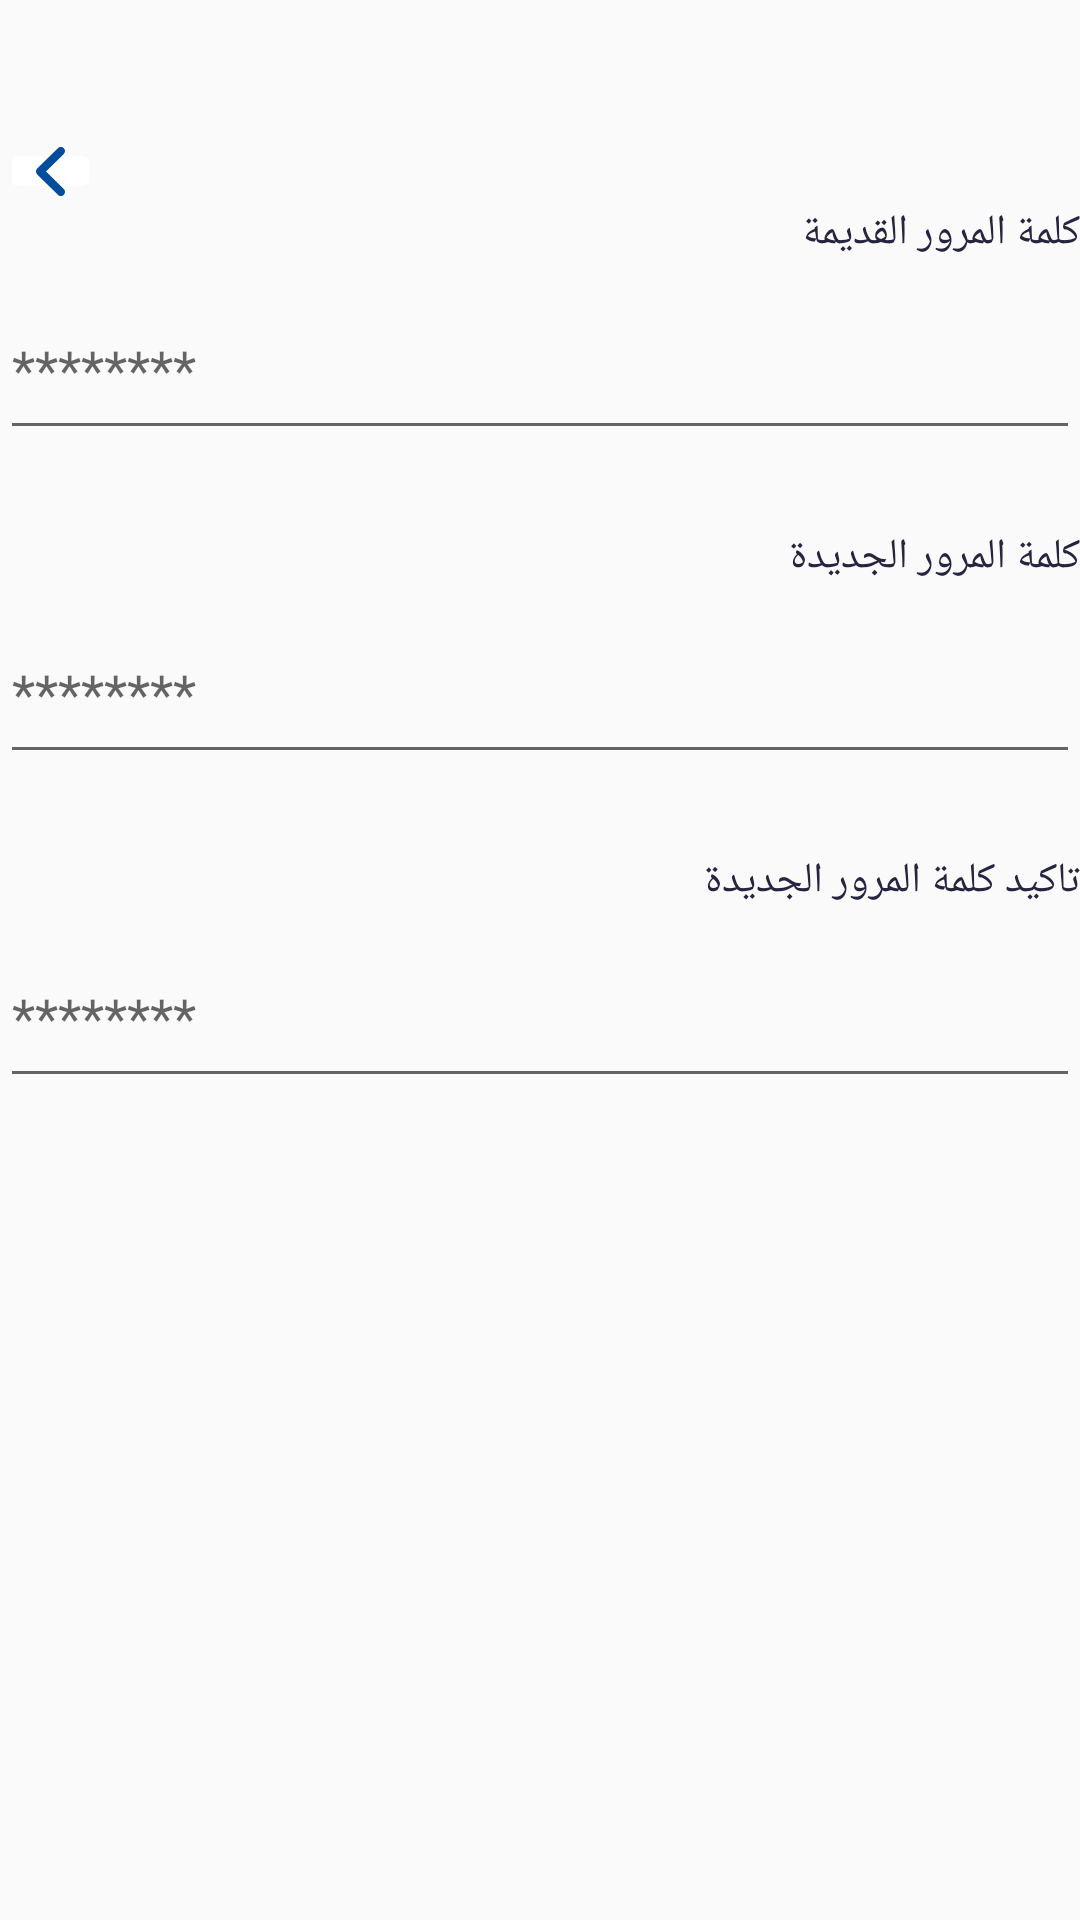

Icon bounding boxes for this 1080px x 1920px phone screenshot, format (x1, y1, x2, y2):
angle left: (36, 147, 65, 196)
